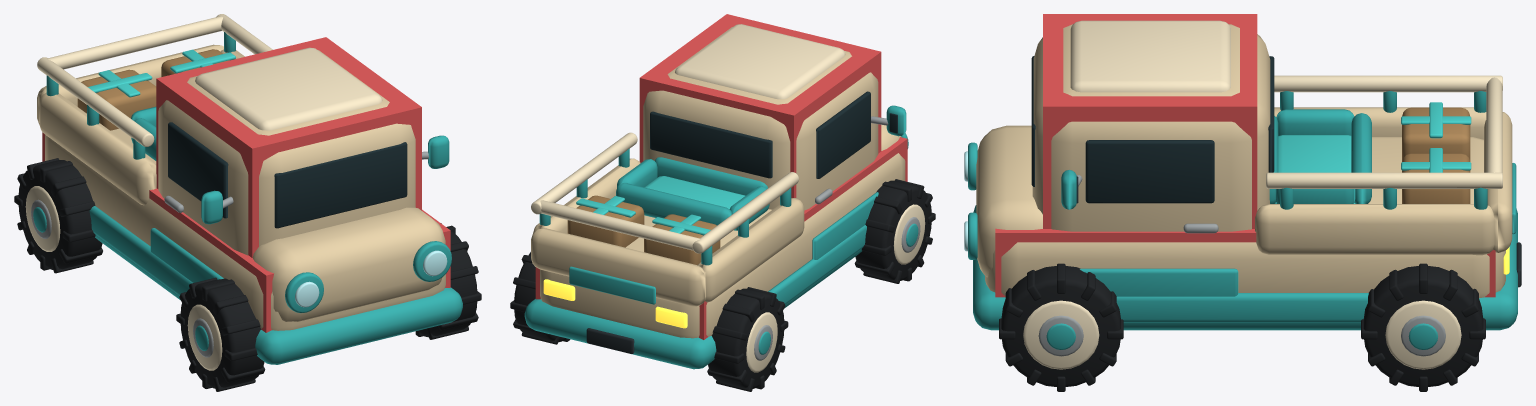
File: Pickup_Blockout_Unity.fbx
The picture shows the model from 3 angles, left to right: view 1: azimuth 30°, elevation 25°; view 2: azimuth 150°, elevation 25°; view 3: azimuth 270°, elevation 25°; orthographic projection. The views are drawn at different scales.
Visible parts, largest first — view 1: PickupBody, COL_Cabin_Unity, Wheel_FL, Wheel_RL, CargoVisual_Small_01, Wheel_FR, COL_Body_Unity, CargoVisual_Small_02; view 2: PickupBody, COL_Cabin_Unity, Wheel_RL, Wheel_FL, CargoVisual_Small_02, CargoVisual_Small_01, COL_Body_Unity, Wheel_RR; view 3: PickupBody, Wheel_RR, Wheel_FR, COL_Cabin_Unity, COL_Body_Unity, CargoVisual_Small_01, CargoVisual_Small_02.
Boxes of the visible parts, x1,y1,x2,y2 form: PickupBody: (37,14,462,364); COL_Cabin_Unity: (156,37,421,257); Wheel_FL: (176,277,265,391); Wheel_RL: (14,158,102,273); CargoVisual_Small_01: (77,69,156,130); Wheel_FR: (415,223,481,339); COL_Body_Unity: (42,132,450,332); CargoVisual_Small_02: (161,49,235,76); PickupBody: (524,24,908,369); COL_Cabin_Unity: (639,14,881,197); Wheel_RL: (707,287,788,391); Wheel_FL: (854,179,935,283); CargoVisual_Small_02: (567,195,644,247); CargoVisual_Small_01: (644,214,720,264); COL_Body_Unity: (535,137,907,339); Wheel_RR: (510,252,570,344); PickupBody: (964,20,1521,330); Wheel_RR: (1361,263,1485,391); Wheel_FR: (999,263,1123,391); COL_Cabin_Unity: (1043,14,1257,228); COL_Body_Unity: (995,228,1495,297); CargoVisual_Small_01: (1401,102,1471,161); CargoVisual_Small_02: (1401,148,1471,203).
Bounding box in the file's own units: 2.08 × 1.9 × 3.51.
